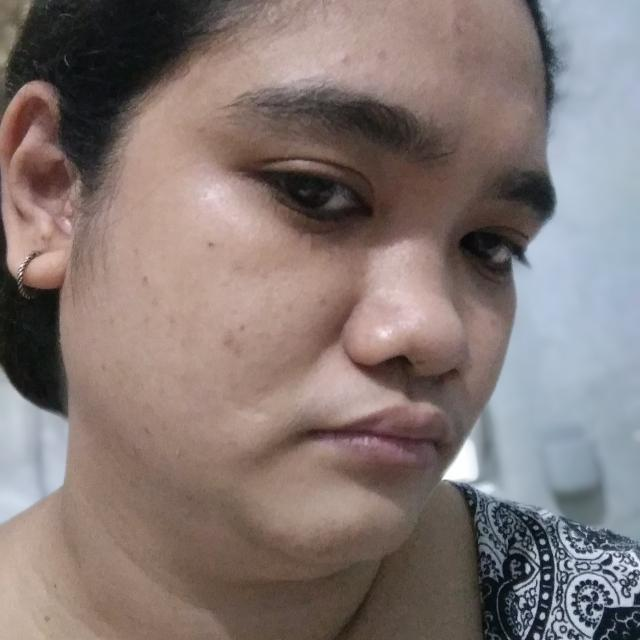Acne: (218, 329, 250, 359), (163, 308, 183, 338), (456, 47, 476, 74), (449, 13, 468, 39), (136, 270, 159, 290), (368, 43, 389, 64), (316, 292, 334, 315), (144, 296, 167, 314), (336, 51, 358, 68), (168, 448, 187, 464), (127, 243, 142, 263), (278, 302, 296, 318), (531, 80, 543, 100), (137, 426, 156, 438), (206, 239, 219, 251)
Eyebags: (252, 220, 376, 247), (462, 278, 506, 298)
Wrinkles: (302, 338, 338, 379)
